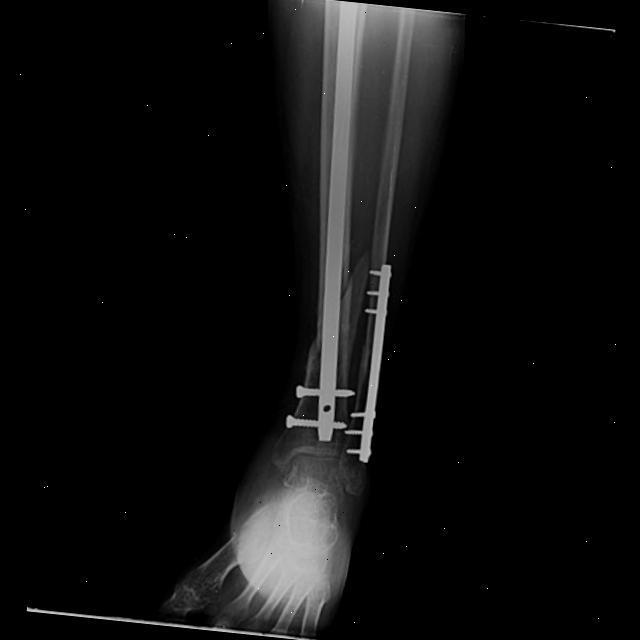fractured: (334, 245, 371, 384), (357, 312, 375, 390), (304, 323, 322, 378)
